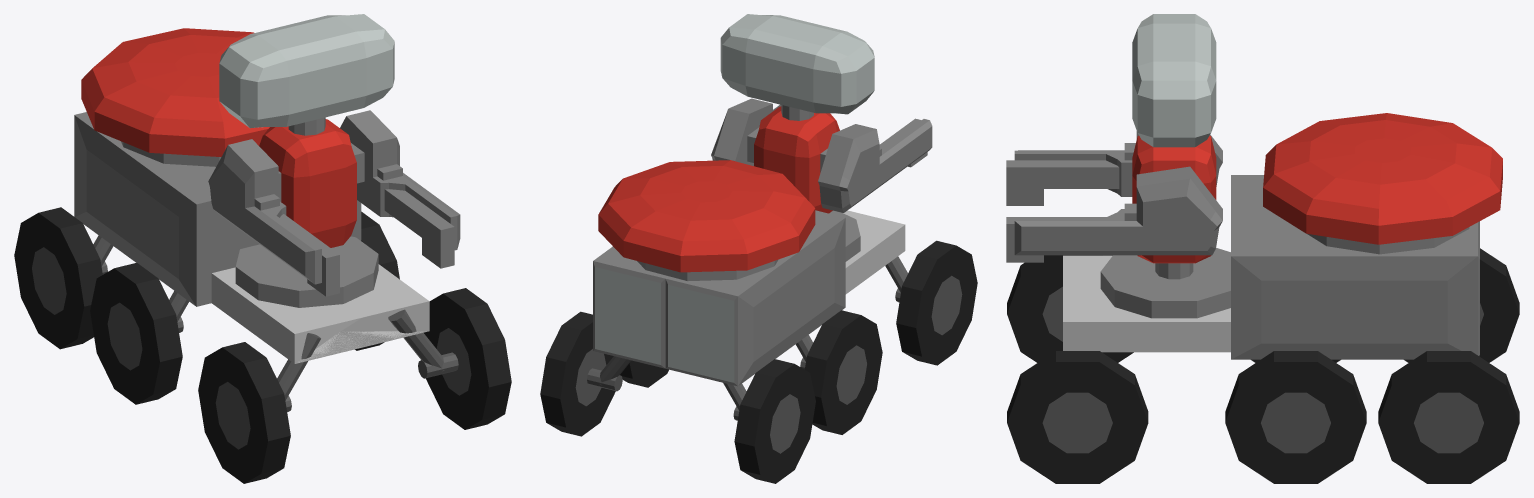
Rendered from contructor.fbx.
3 views of the same model, side by side, from view 1: azimuth 30°, elevation 25°; view 2: azimuth 150°, elevation 25°; view 3: azimuth 270°, elevation 25° (orthographic). The views are drawn at different scales.
Visible parts, largest first — view 1: Circle.002, Circle; view 2: Circle.002, Circle; view 3: Circle.002, Circle.
Boxes of the visible parts, <box> form: Circle.002: <box>74,14,460,363</box>; Circle: <box>14,207,511,483</box>; Circle.002: <box>593,14,932,386</box>; Circle: <box>540,240,977,483</box>; Circle.002: <box>1006,14,1502,359</box>; Circle: <box>1007,248,1519,483</box>.
Size of the model in its own units: 309 by 459 by 559.
